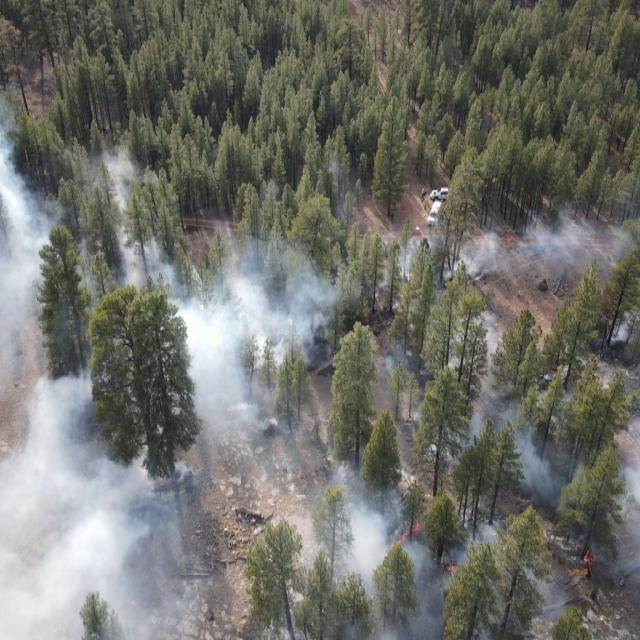fire: (383, 516, 425, 564), (565, 542, 604, 580), (444, 556, 464, 580)
smoke: (181, 215, 640, 640), (0, 84, 182, 640), (320, 150, 352, 198)
